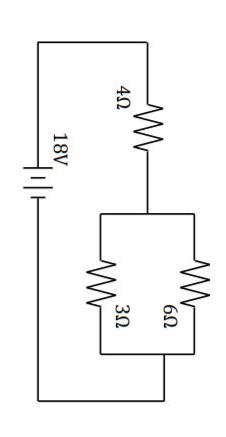resistor: (65, 244, 114, 310), (131, 88, 175, 159), (173, 242, 217, 309)
